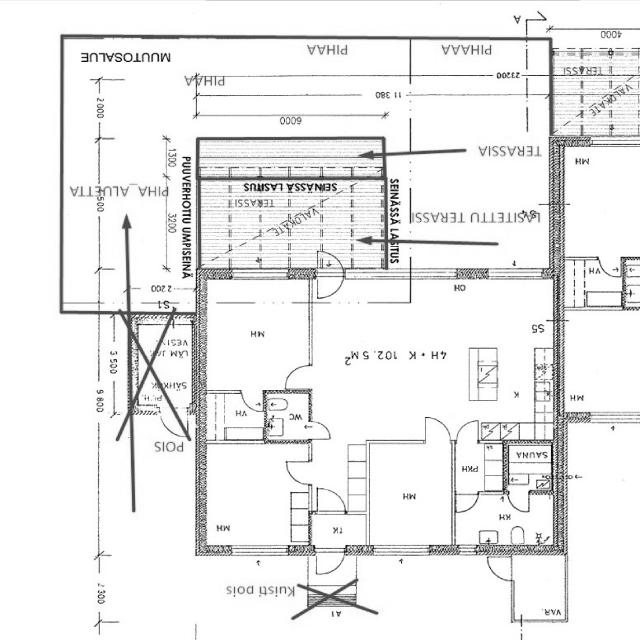door: (201, 441, 311, 549), (266, 381, 313, 441), (315, 248, 346, 301), (418, 414, 469, 446), (313, 484, 348, 516), (280, 360, 316, 391), (313, 546, 347, 576), (282, 458, 315, 488), (486, 555, 516, 583), (506, 487, 534, 515), (452, 489, 482, 515), (596, 255, 623, 280), (307, 418, 335, 442), (240, 389, 266, 413)
window: (370, 542, 433, 561), (228, 543, 290, 560), (583, 409, 634, 426), (366, 436, 427, 448), (454, 541, 481, 561)
zone: (299, 280, 548, 430), (202, 273, 312, 393), (200, 438, 309, 552), (363, 440, 454, 551), (558, 140, 640, 260), (130, 314, 197, 408), (454, 494, 560, 549), (511, 551, 569, 623), (200, 390, 266, 443), (562, 258, 624, 311), (504, 439, 555, 494), (453, 442, 506, 494), (265, 388, 313, 442), (229, 268, 293, 284), (623, 256, 640, 309)
